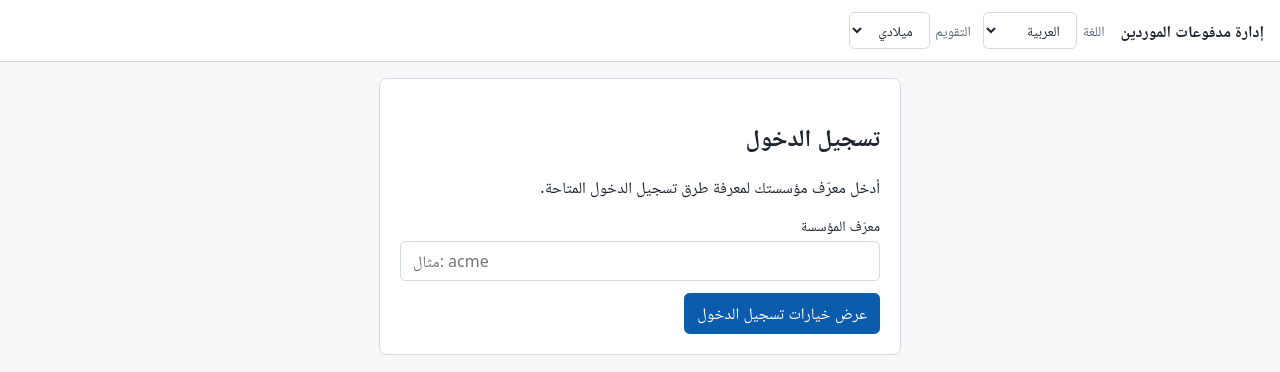
Scenario: right-to-left support › renders Arabic with dir="rtl" and lang="ar", and switches back to LTR
Check: the heading "تسجيل الدخول" is shown, box [746, 120, 880, 153]
Select "English" in the dropdown with test id "language-select" at (1030, 31), box [983, 12, 1077, 49]
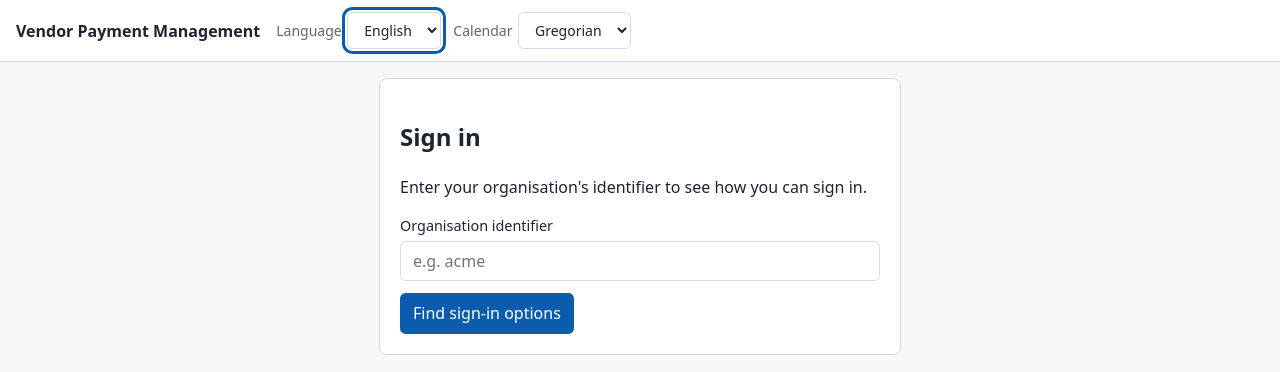
Check: the heading "Sign in" is shown, box [400, 120, 481, 153]
